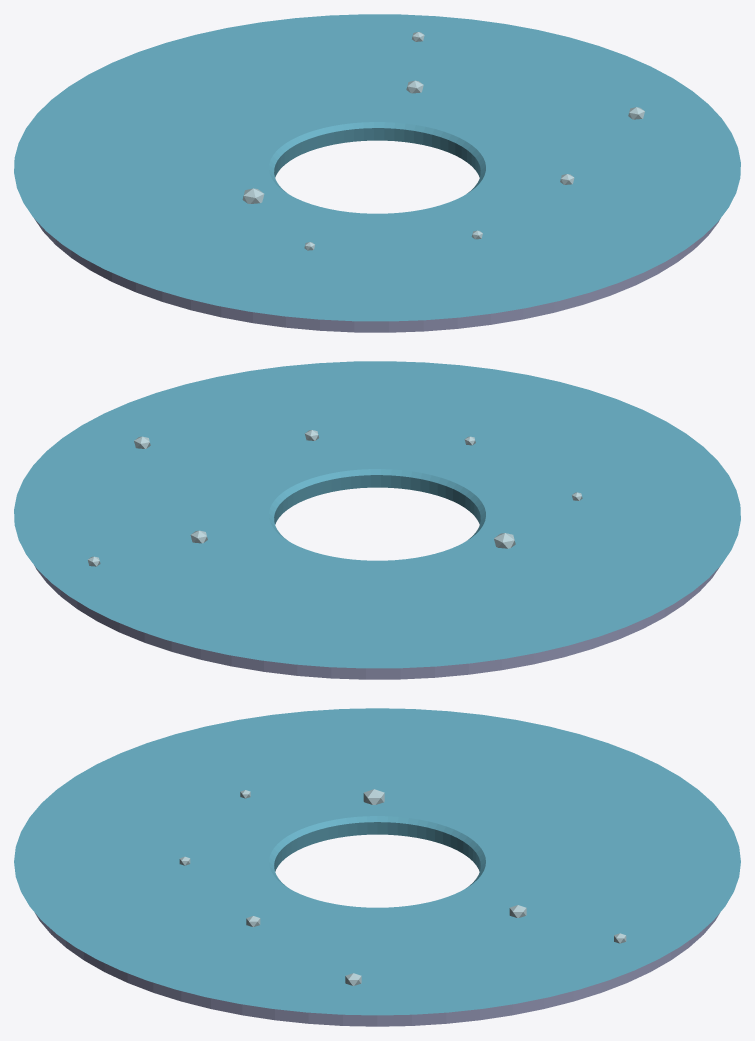
File: goo_jar_deck_4@crystal.fbx
3 renders of one model, top to bottom at view 1: azimuth 30°, elevation 25°; view 2: azimuth 150°, elevation 25°; view 3: azimuth 270°, elevation 25°, orthographic.
Visible parts, largest first — view 1: goo_jar_deck_4; view 2: goo_jar_deck_4; view 3: goo_jar_deck_4.
Boxes of the visible parts, left/top/right/bottom form: goo_jar_deck_4: left=14, top=14, right=740, bottom=332; goo_jar_deck_4: left=14, top=361, right=740, bottom=679; goo_jar_deck_4: left=14, top=708, right=740, bottom=1026.
Size of the model in its own units: 42.2 by 1.78 by 42.2.
